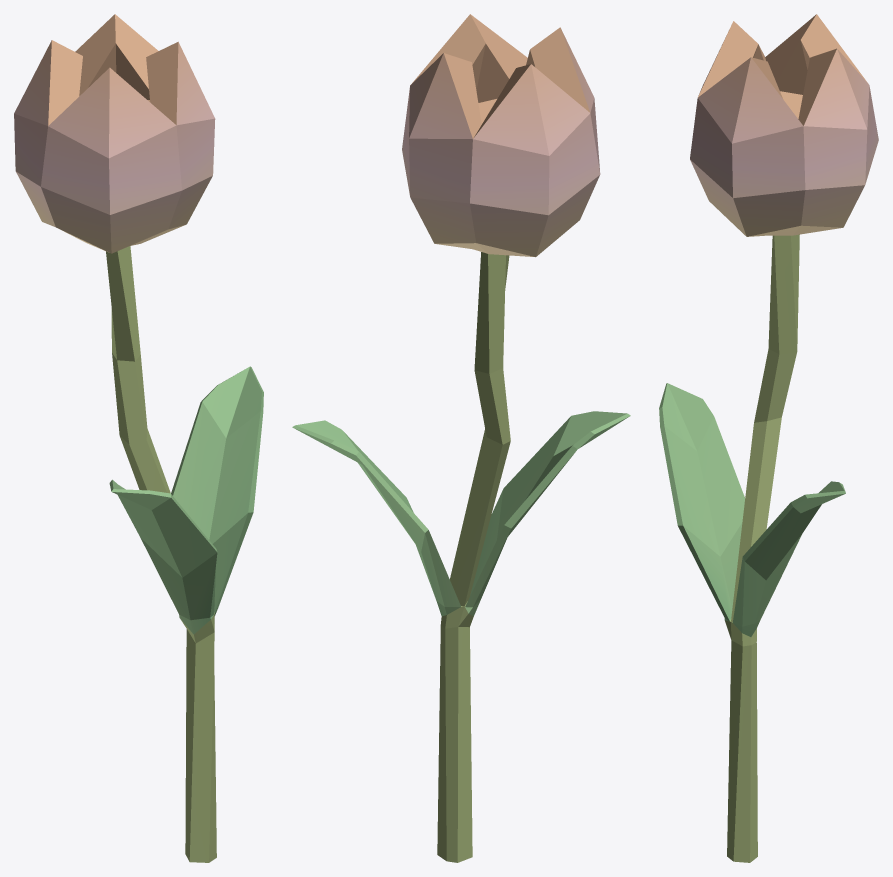
File: Tulip_Pink.fbx
3 renders of one model, left to right at view 1: azimuth 30°, elevation 25°; view 2: azimuth 150°, elevation 25°; view 3: azimuth 270°, elevation 25°, orthographic. The views are drawn at different scales.
Parts seen in each view (by area): view 1: Tulip_Pink; view 2: Tulip_Pink; view 3: Tulip_Pink.
Part boxes in pixels (left/top/right/bottom): Tulip_Pink: left=14, top=14, right=263, bottom=862; Tulip_Pink: left=292, top=14, right=630, bottom=862; Tulip_Pink: left=659, top=14, right=878, bottom=862.
Size of the model in its own units: 17.23 by 53.03 by 13.36.
